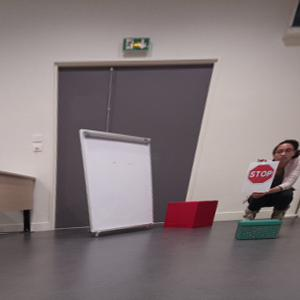stop: (249, 164, 274, 184)
